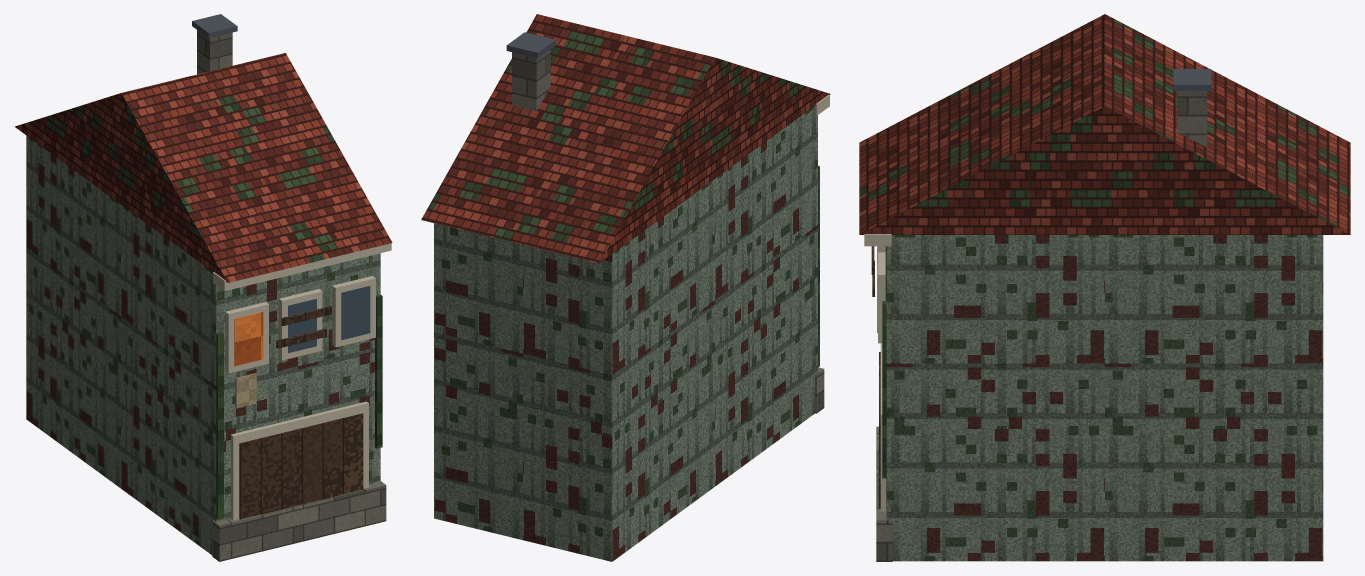
The model's file is ENV_C_Facade_7.fbx.
3 renders of one model, left to right at view 1: azimuth 30°, elevation 25°; view 2: azimuth 150°, elevation 25°; view 3: azimuth 270°, elevation 25°, orthographic. The views are drawn at different scales.
Parts seen in each view (by area): view 1: ENV_C_Facade_7; view 2: ENV_C_Facade_7; view 3: ENV_C_Facade_7.
Boxes of the visible parts, x1=… form: ENV_C_Facade_7: x1=15, y1=14, x2=392, y2=561; ENV_C_Facade_7: x1=421, y1=14, x2=830, y2=561; ENV_C_Facade_7: x1=859, y1=14, x2=1350, y2=561.
Size of the model in its own units: 406 by 942 by 900.
11 materials, 8 textured.
